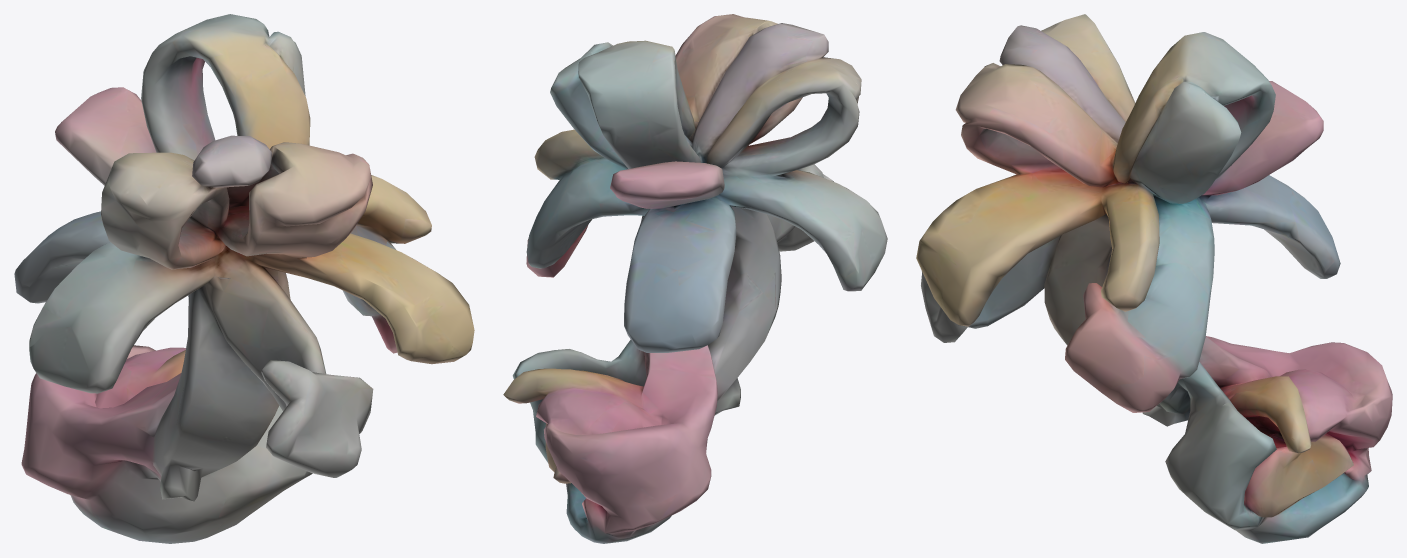
Rendered from ribbon.glb.
3 views of the same model, side by side, from view 1: azimuth 30°, elevation 25°; view 2: azimuth 150°, elevation 25°; view 3: azimuth 270°, elevation 25° (orthographic). The views are drawn at different scales.
Parts seen in each view (by area): view 1: tripo_node_7e1a405e-8163-49c1-bf96-015a2d45e8eb; view 2: tripo_node_7e1a405e-8163-49c1-bf96-015a2d45e8eb; view 3: tripo_node_7e1a405e-8163-49c1-bf96-015a2d45e8eb.
Boxes of the visible parts, x1=… form: tripo_node_7e1a405e-8163-49c1-bf96-015a2d45e8eb: x1=14, y1=14, x2=474, y2=543; tripo_node_7e1a405e-8163-49c1-bf96-015a2d45e8eb: x1=503, y1=14, x2=887, y2=543; tripo_node_7e1a405e-8163-49c1-bf96-015a2d45e8eb: x1=916, y1=14, x2=1392, y2=543.
Bounding box in the file's own units: 0.7488 × 1 × 0.8819.
1 material, 1 textured.
